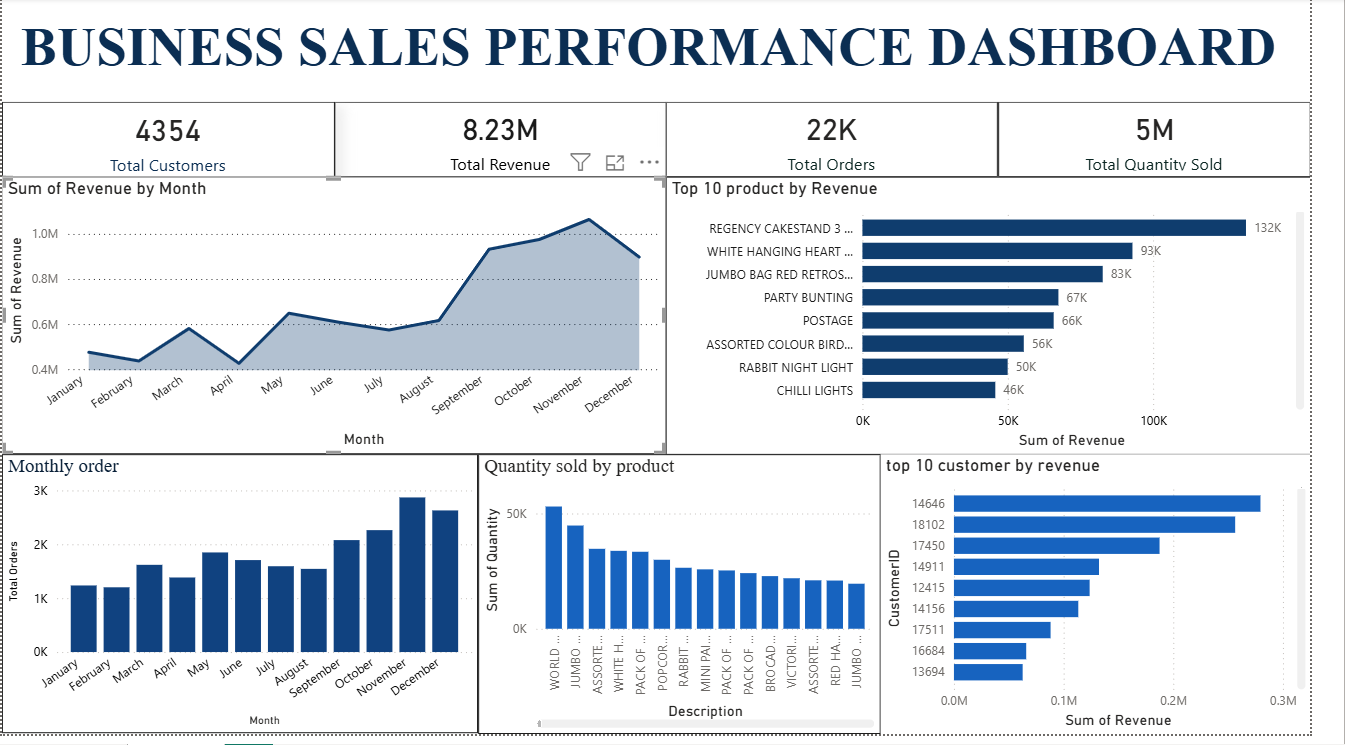

What the dashboard file says about the page in this screenshot:
{"tool":"powerbi","page":{"name":"Page 2","canvas":[1280,720],"ordinal":0},"visuals":[{"type":"card","fields":{"Values":["online_retail.Total Revenue"]},"box":[325.3,101.5,325.3,73.4],"z":0},{"type":"card","fields":{"Values":["online_retail.Total Customers"]},"box":[0,101.5,325.3,74.6],"z":1000},{"type":"card","fields":{"Values":["online_retail.Total Quantity Sold"]},"box":[649.3,101.5,325,73.4],"z":2000},{"type":"card","fields":{"Values":["online_retail.Total Orders"]},"box":[974.6,101.5,305.7,73.4],"z":3000},{"type":"lineChart","fields":{"Category":["online_retail.InvoiceDate.Variation.Date Hierarchy.Month"],"Y":["Sum(online_retail.Revenue)"]},"box":[0,174.9,649.3,271.5],"z":4000},{"type":"barChart","title":"Top 10 product by Revenue","fields":{"Category":["online_retail.Description"],"Y":["Sum(online_retail.Revenue)"]},"box":[649.3,174.9,631,272],"z":5000},{"type":"clusteredColumnChart","title":"Quantity sold by product  ","fields":{"Category":["online_retail.Description"],"Y":["Sum(online_retail.Quantity)"]},"box":[465.9,446.3,393.8,273.9],"z":6000},{"type":"clusteredColumnChart","title":"Monthly order ","fields":{"Category":["online_retail.InvoiceDate.Variation.Date Hierarchy.Month"],"Y":["online_retail.Total Orders"]},"box":[0,446.3,465.9,272.7],"z":7000},{"type":"barChart","fields":{"Category":["online_retail.CustomerID"],"Y":["CountNonNull(online_retail.Description)"]},"box":[859.7,446.3,420.7,273],"z":8000},{"type":"textbox","box":[0,0,1280.3,101.5],"z":9000}]}

Visuals, with their boxes in screenshot pixels (x1, y1, x2, y2), scaled from the page's 1280x720 canvas onto the 1345x745 screenshot:
card - online_retail.Total Revenue: l=342, t=105, r=684, b=181
card - online_retail.Total Customers: l=0, t=105, r=342, b=182
card - online_retail.Total Quantity Sold: l=682, t=105, r=1024, b=181
card - online_retail.Total Orders: l=1024, t=105, r=1344, b=181
lineChart - online_retail.InvoiceDate.Variation.Date Hierarchy.Month x Sum(online_retail.Revenue): l=0, t=181, r=682, b=462
"Top 10 product by Revenue" barChart: l=682, t=181, r=1344, b=462
"Quantity sold by product  " clusteredColumnChart: l=490, t=462, r=903, b=744
"Monthly order " clusteredColumnChart: l=0, t=462, r=490, b=744
barChart - online_retail.CustomerID x CountNonNull(online_retail.Description): l=903, t=462, r=1344, b=744
textbox: l=0, t=0, r=1344, b=105
